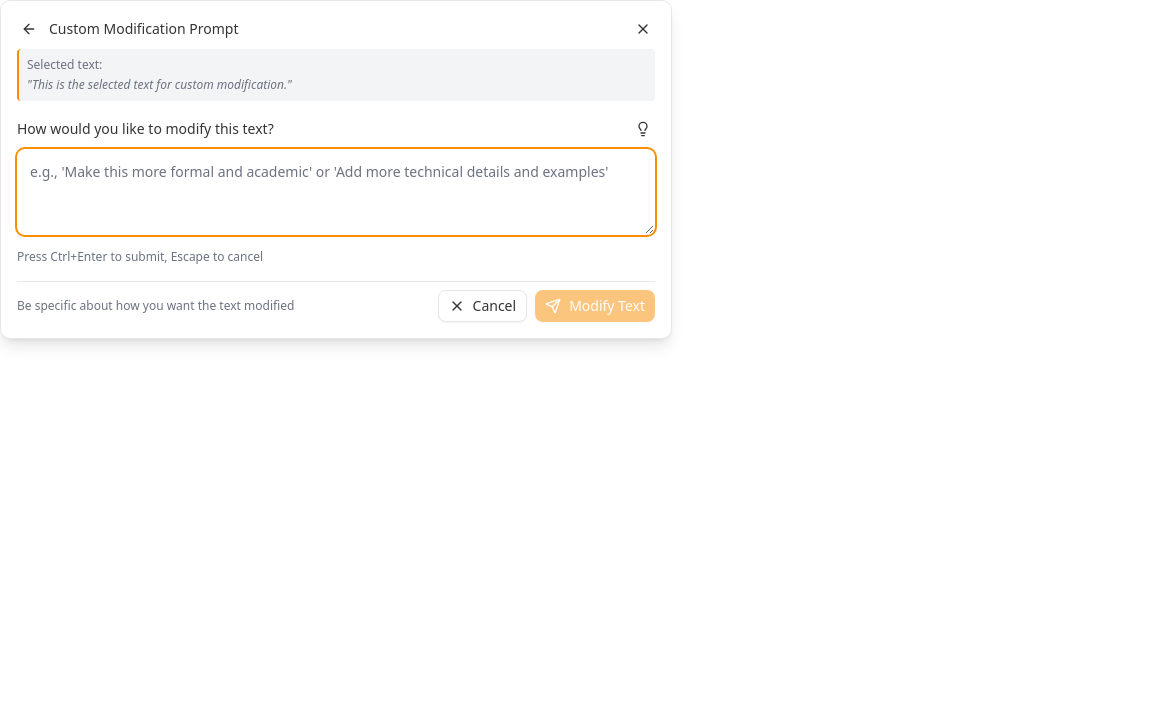
Scenario: Modify Mode Integration Tests › CustomPromptInput Component › should fill prompt when suggestion is clicked
The image size is (1152, 720).
Click the button named "Show prompt suggestions" at (643, 129), box [631,117,655,141]
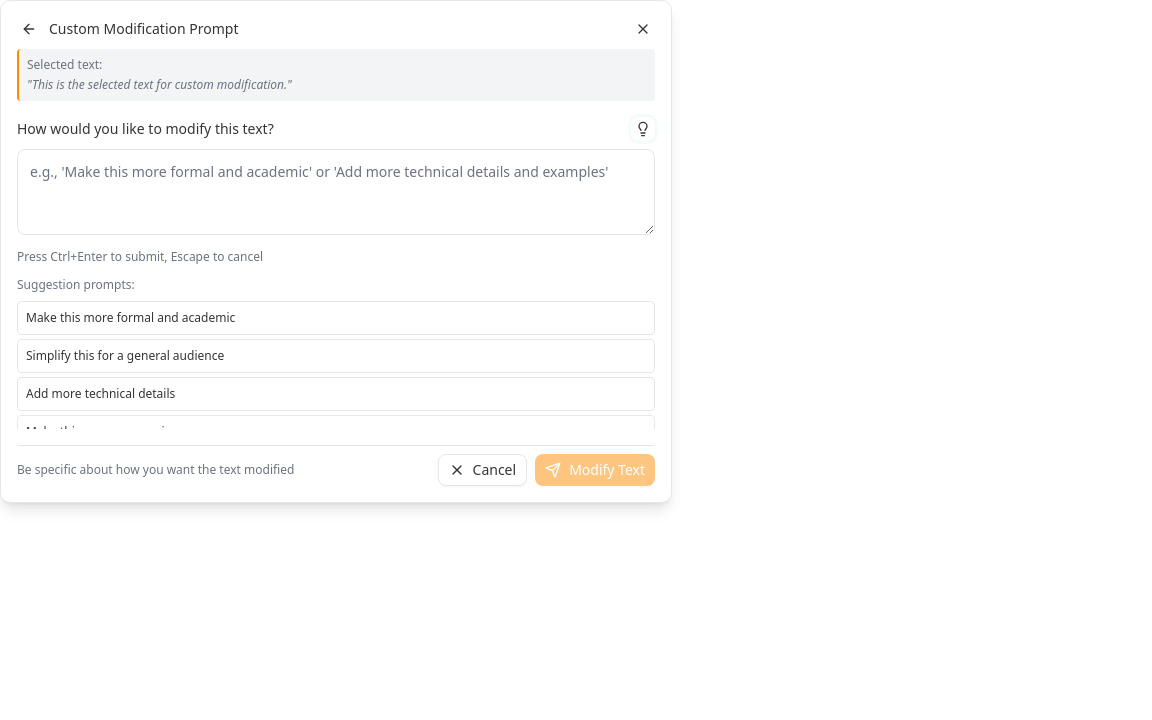
Click the button "Make this more formal and academic" at (131, 318), box [17,301,655,335]
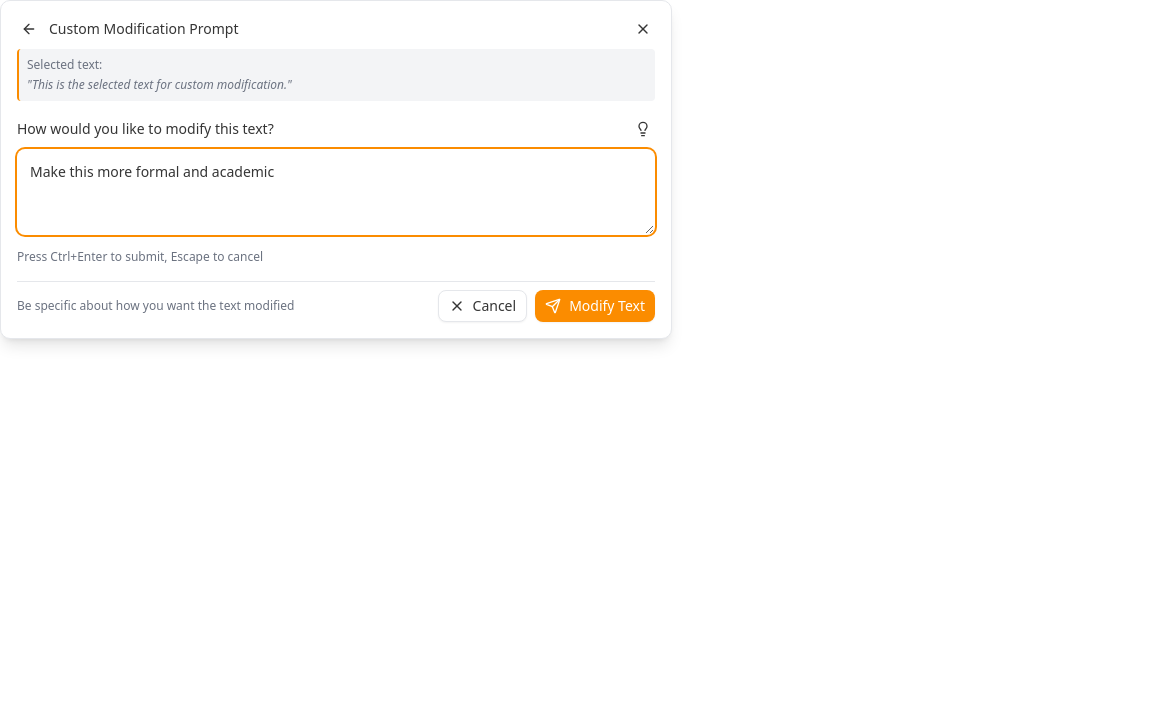
expect the text box with placeholder "Make this more formal and academic" holds "Make this more formal and academic": met, box [17,149,655,235]
